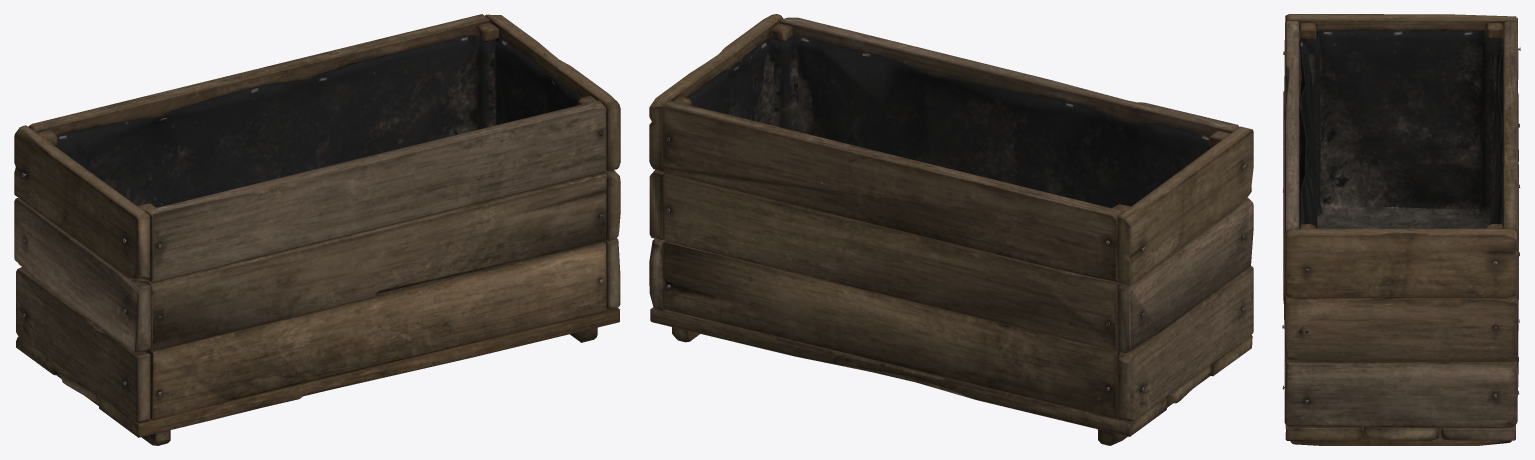
File: planter.glb
The picture shows the model from 3 angles, left to right: view 1: azimuth 30°, elevation 25°; view 2: azimuth 150°, elevation 25°; view 3: azimuth 270°, elevation 25°; orthographic projection. The views are drawn at different scales.
Parts seen in each view (by area): view 1: planter_box_01; view 2: planter_box_01; view 3: planter_box_01.
Part boxes in pixels (box(x1,y1,x2,y2)): planter_box_01: box(14, 14, 620, 445); planter_box_01: box(649, 14, 1253, 445); planter_box_01: box(1282, 14, 1520, 445).
Size of the model in its own units: 0.9126 by 0.4253 by 0.4137.
1 material, 1 textured.
